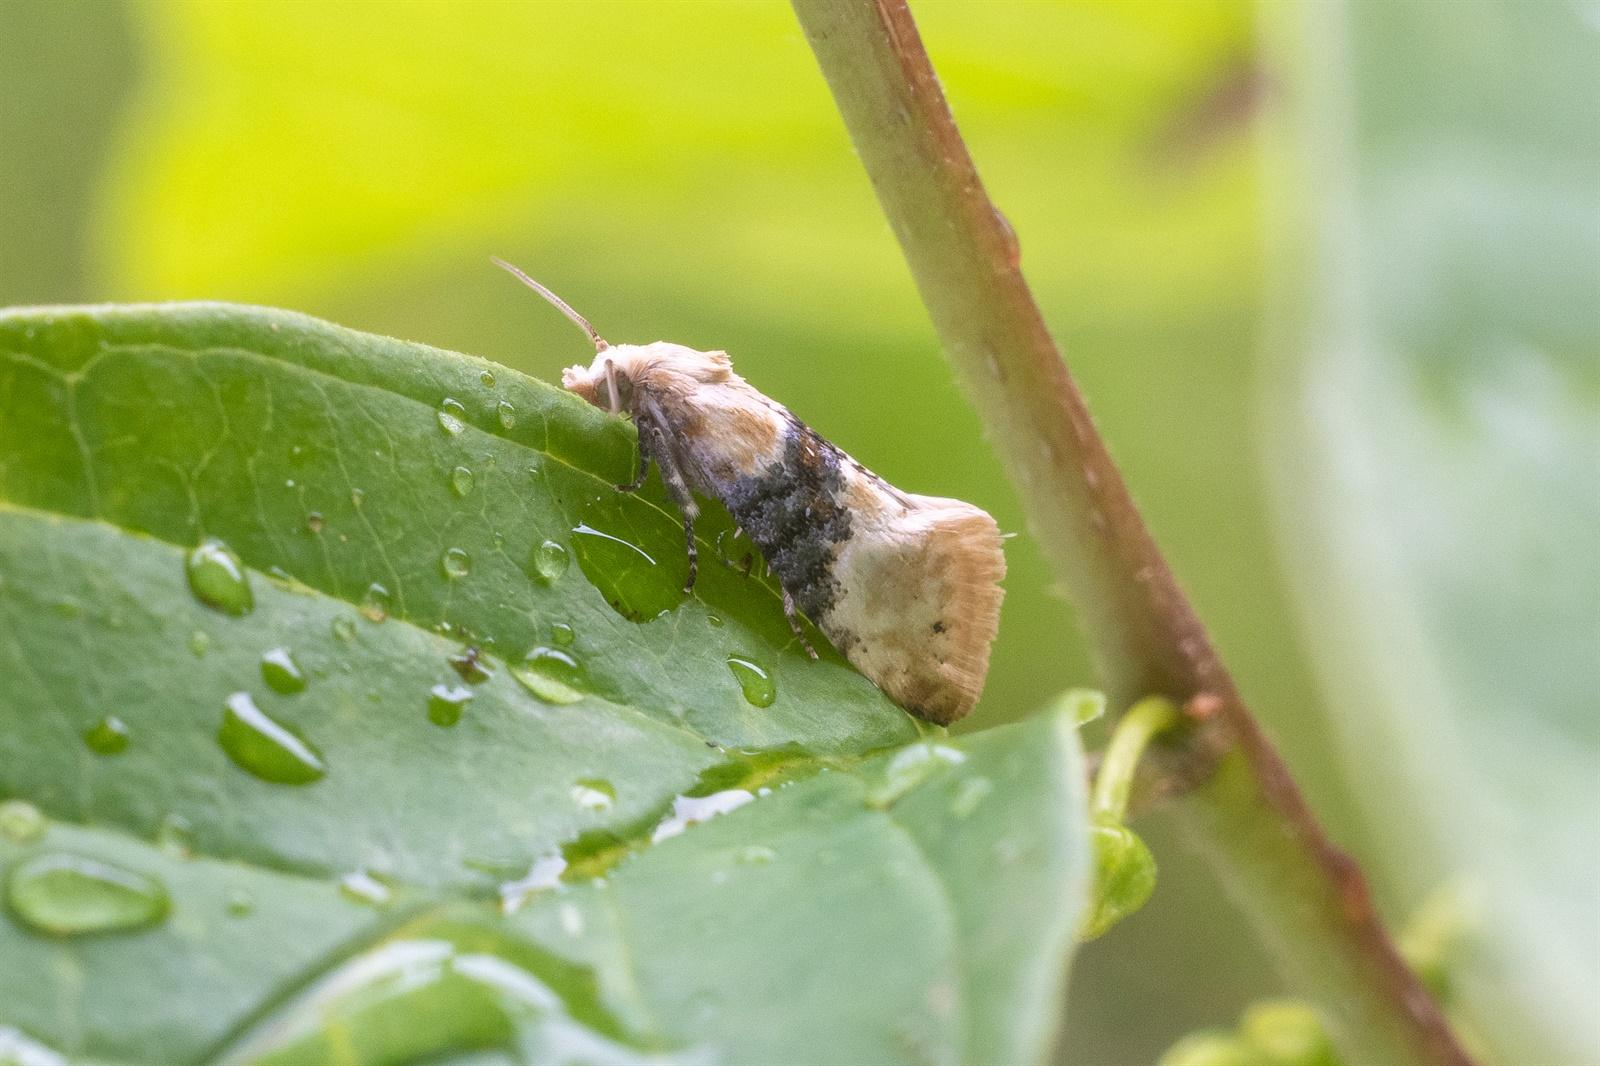Eupoecilia Ambiguella: (484, 242, 1016, 729)
